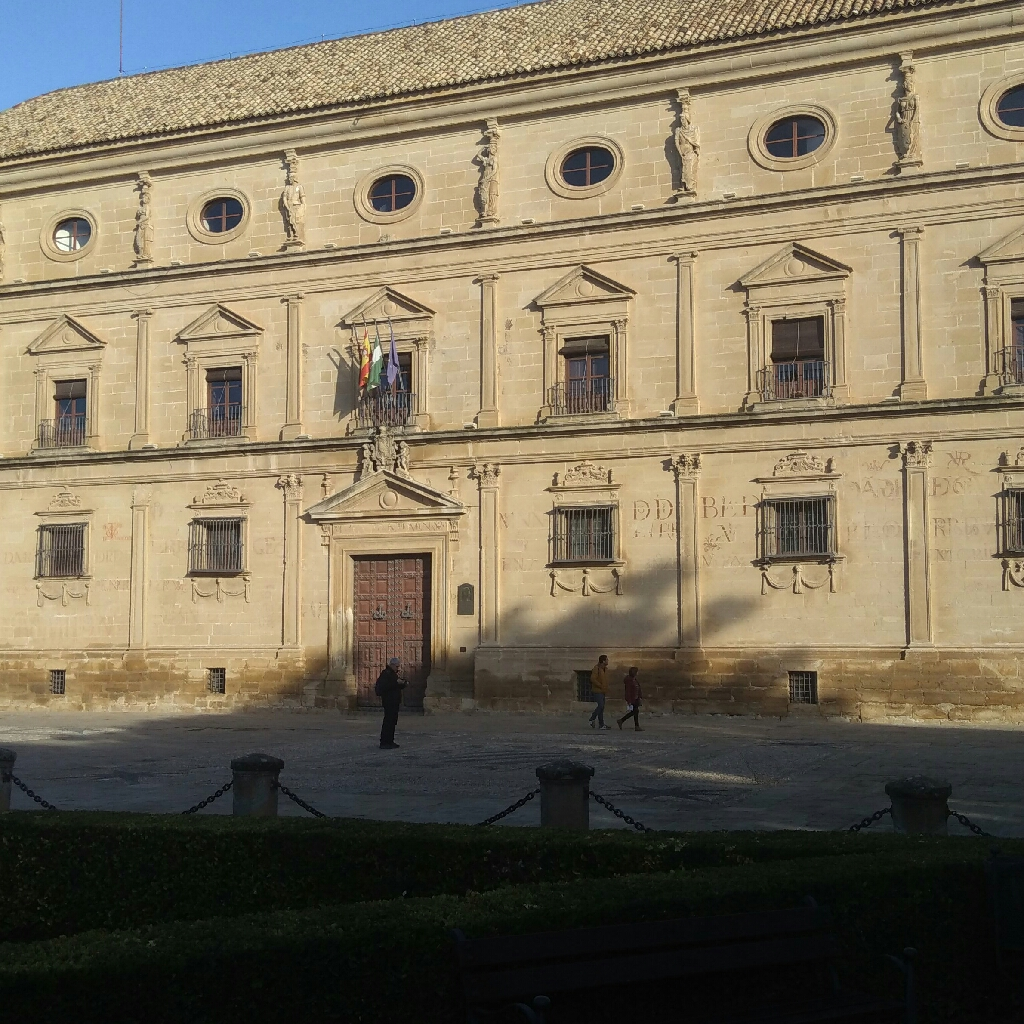fronton: (305, 467, 466, 524), (734, 234, 853, 288), (525, 261, 640, 307), (173, 302, 269, 347), (339, 286, 437, 329), (27, 314, 107, 357)
ojo-de-buey: (748, 102, 840, 172), (544, 130, 627, 194), (351, 162, 429, 223), (187, 186, 254, 242), (40, 206, 98, 259)
vano-adintelado: (327, 527, 452, 714), (745, 286, 852, 403), (543, 309, 637, 414), (187, 343, 261, 447), (359, 327, 435, 428), (36, 358, 100, 449)
